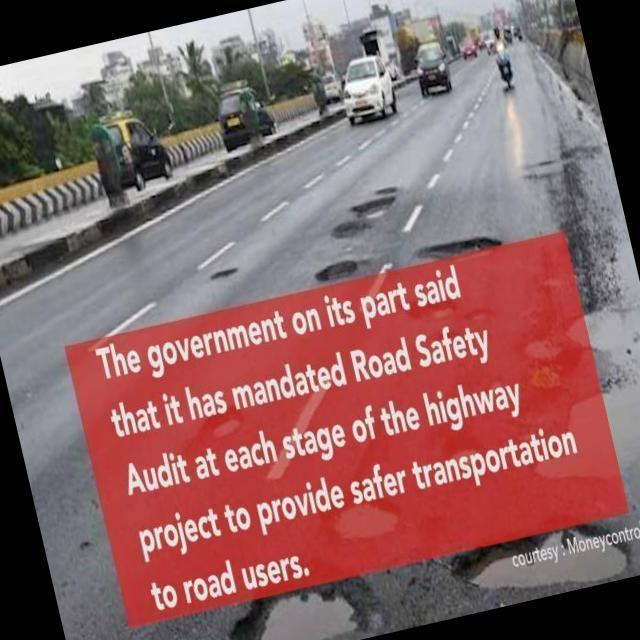Burst: (457, 516, 627, 590), (233, 567, 386, 640), (539, 379, 640, 483), (564, 304, 639, 348), (334, 494, 399, 540), (336, 199, 390, 244), (521, 330, 557, 388), (423, 236, 499, 258), (519, 159, 560, 193), (202, 260, 244, 290), (313, 261, 356, 282)
